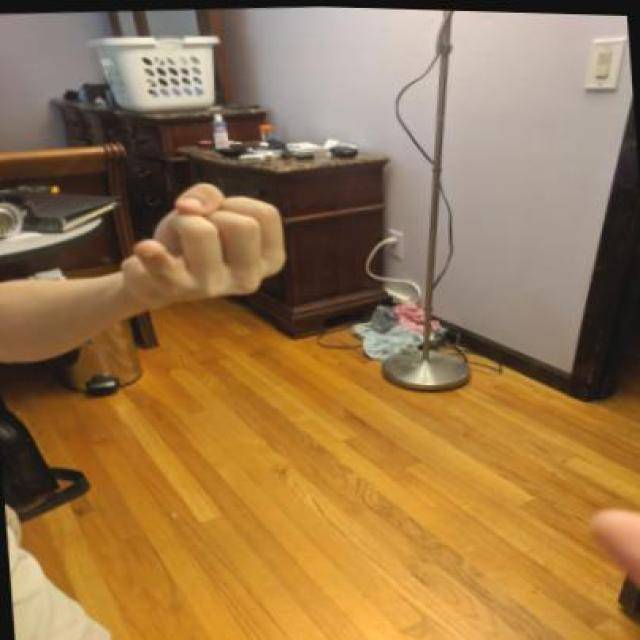J: (110, 171, 300, 316)
